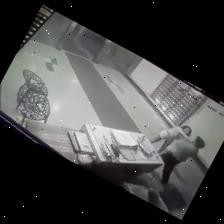person: (160, 137, 204, 183), (150, 126, 190, 152)
